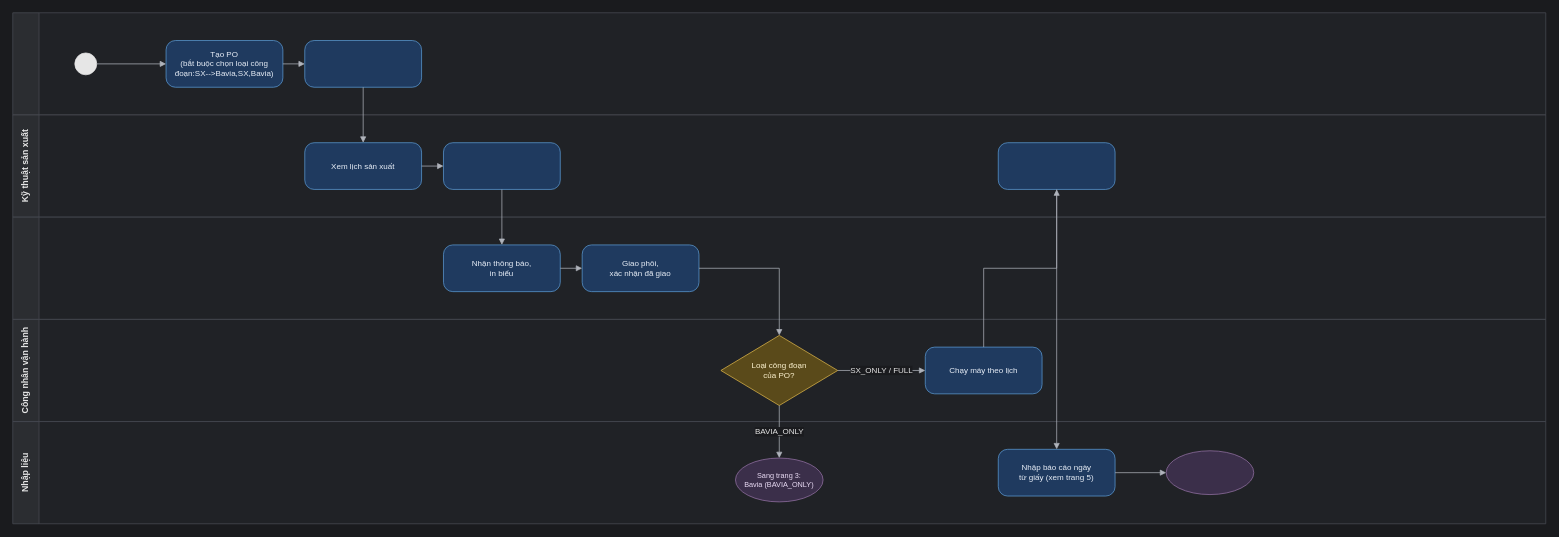
The diagram is 1559 pixels wide and 537 high, and some of its shapes have lost their labels. The box of each missing label's shape, as (x1, y1, x2, y2) in pixels:
Kho: (12, 216, 1546, 319)
Kiểm sản lượng từng cặp, ghi giấy (giờ, phút dừng): (998, 142, 1115, 189)
Kế hoạch sản xuất: (12, 12, 1546, 115)
Lập lịch sản xuất (ngày, kíp, số lượng): (304, 40, 422, 87)
Sang trang 3: QC theo cặp: (1165, 450, 1254, 495)
Tạo yêu cầu xuất phôi từ lịch (cặp chạy, người làm): (443, 142, 560, 189)
